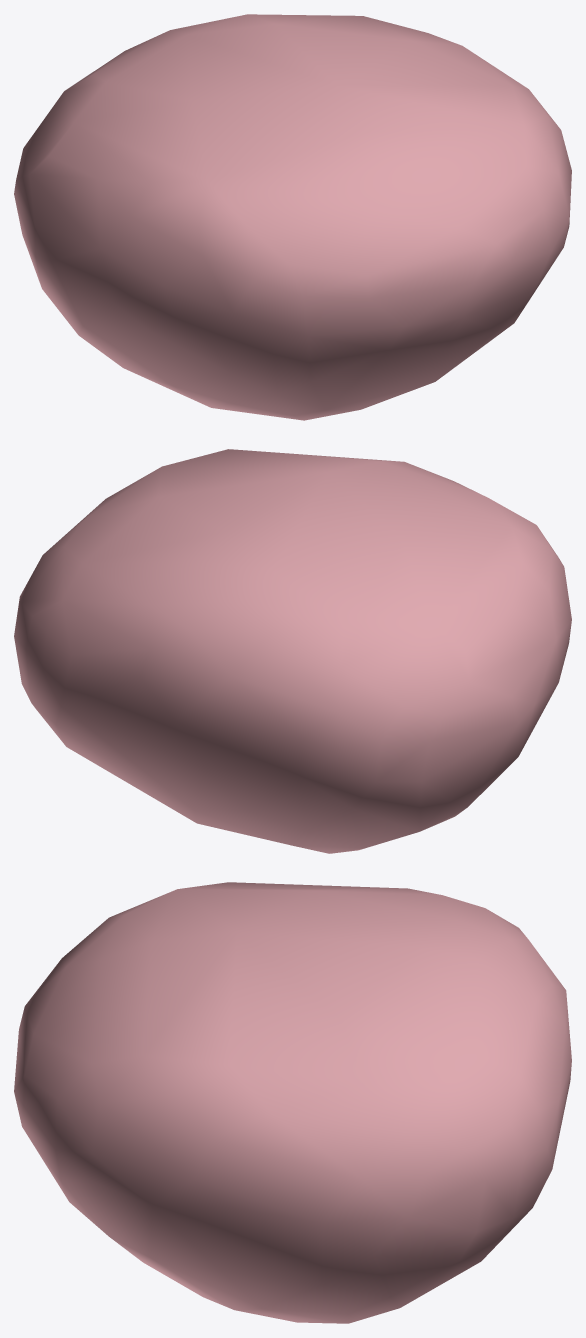
File: visceras-prostate.glb
The picture shows the model from 3 angles, top to bottom: view 1: azimuth 30°, elevation 25°; view 2: azimuth 150°, elevation 25°; view 3: azimuth 270°, elevation 25°; orthographic projection. The views are drawn at different scales.
Parts seen in each view (by area): view 1: Prostate; view 2: Prostate; view 3: Prostate.
Part boxes in pixels (bbox=[...]): Prostate: bbox=[14, 14, 571, 420]; Prostate: bbox=[14, 449, 571, 853]; Prostate: bbox=[14, 882, 571, 1323].
Bounding box in the file's own units: 0.0357 × 0.0234 × 0.0328.
